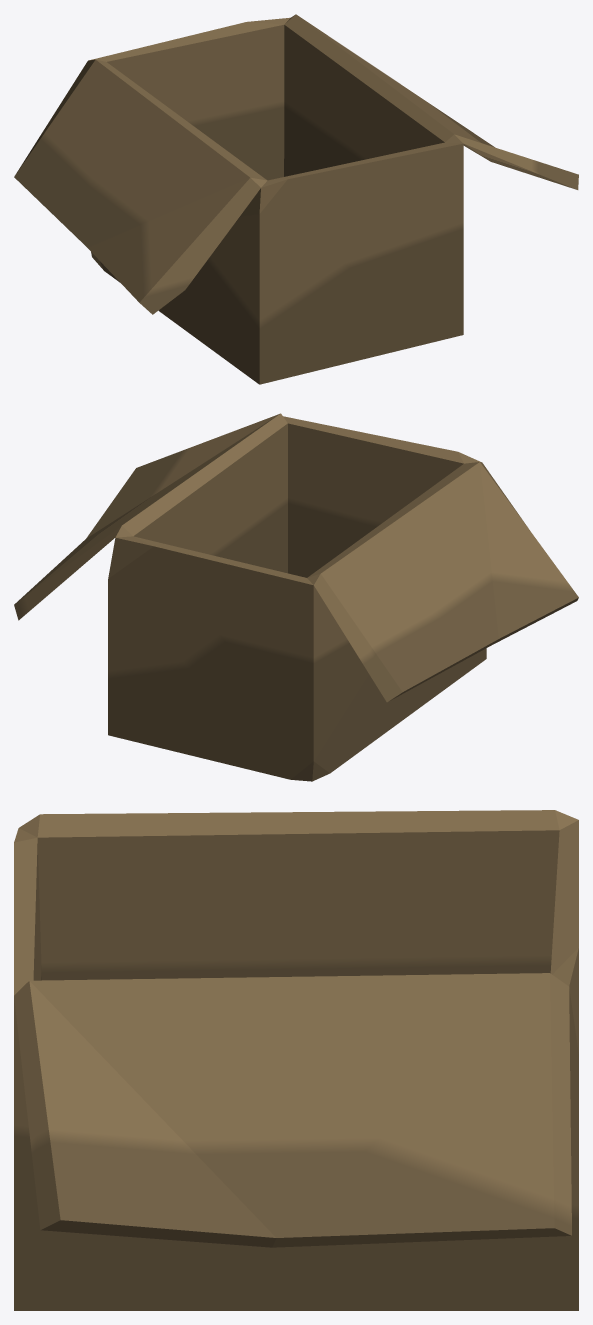
The model's file is SM_Prop_Cardboard_Box_05.glb.
The picture shows the model from 3 angles, top to bottom: view 1: azimuth 30°, elevation 25°; view 2: azimuth 150°, elevation 25°; view 3: azimuth 270°, elevation 25°; orthographic projection. The views are drawn at different scales.
Visible parts, largest first — view 1: SM_Prop_Cardboard_Box_05; view 2: SM_Prop_Cardboard_Box_05; view 3: SM_Prop_Cardboard_Box_05.
Part boxes in pixels (x1,y1,x2,y2): SM_Prop_Cardboard_Box_05: (14, 14, 578, 384); SM_Prop_Cardboard_Box_05: (14, 413, 578, 781); SM_Prop_Cardboard_Box_05: (14, 810, 578, 1310).
Bounding box in the file's own units: 1.08 × 0.4796 × 0.7282.
Materials: 1 (1 with a texture image).
